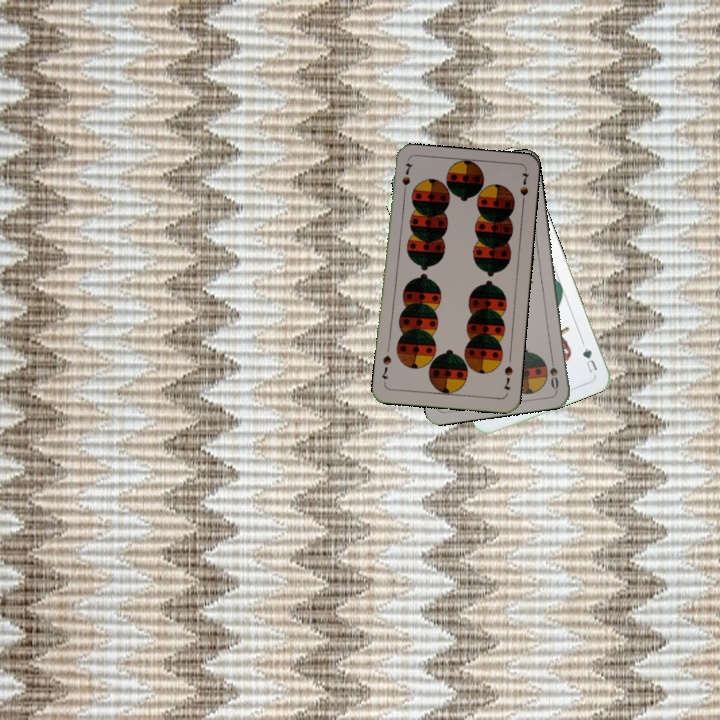GU: (578, 343, 600, 375)
S7: (499, 362, 515, 392), (398, 172, 413, 199)
SO: (545, 351, 561, 392)
